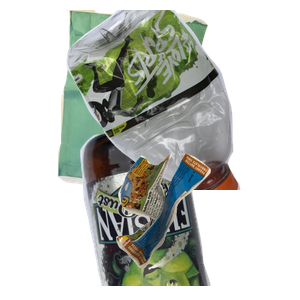glass: (78, 120, 281, 300)
paper: (55, 10, 255, 190)
plastic: (64, 10, 300, 190)
trash: (114, 151, 300, 300)
